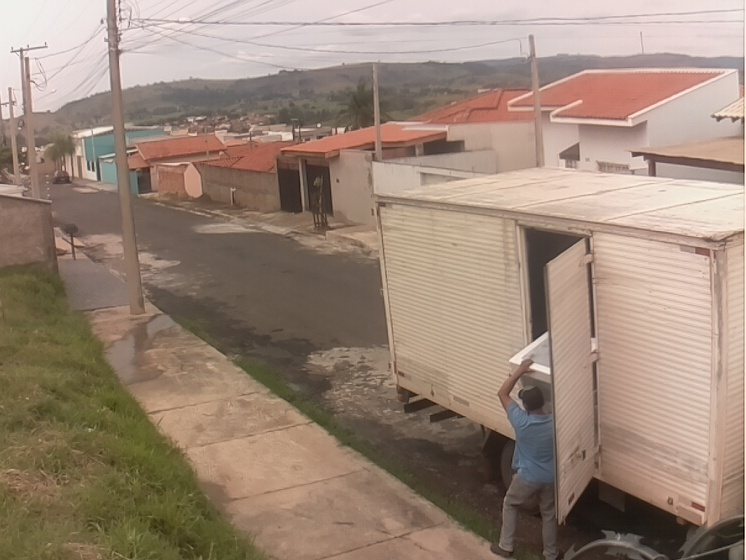person: (491, 358, 561, 560)
